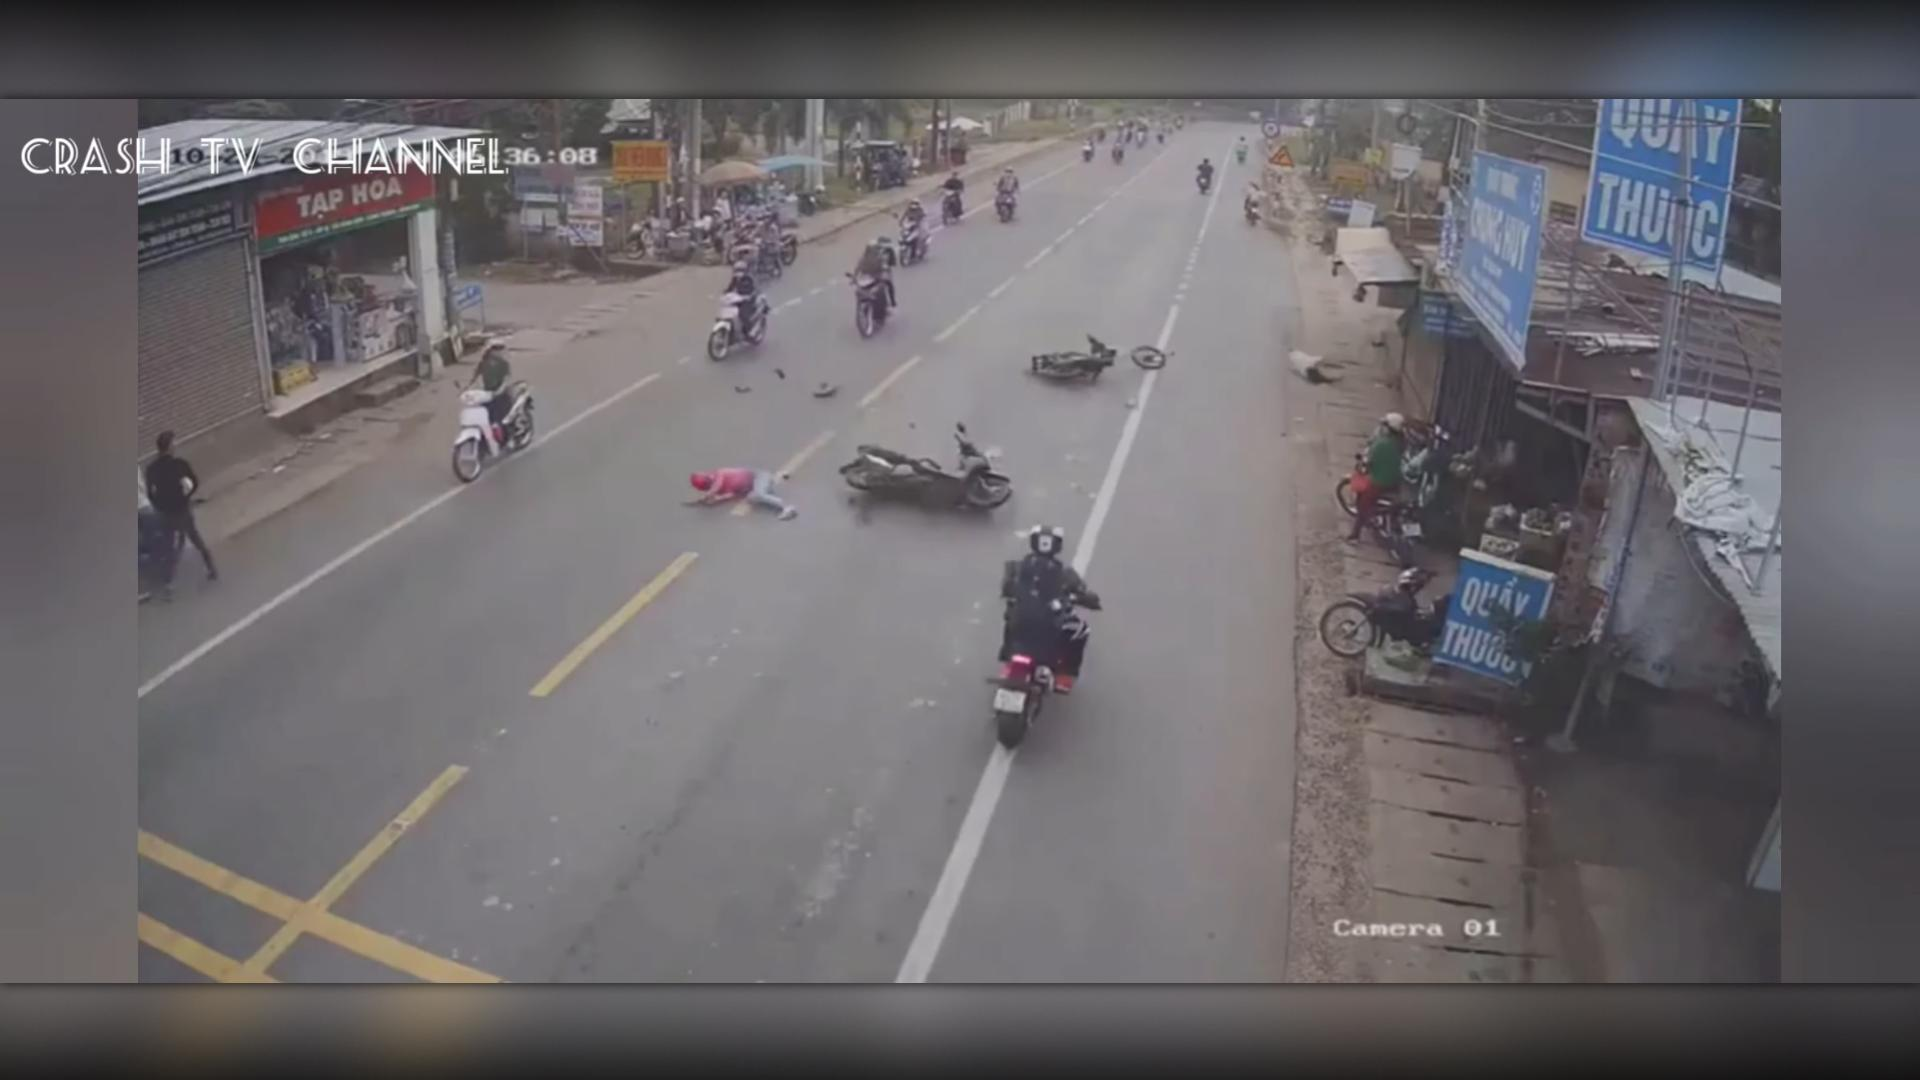accident: (844, 323, 1172, 509), (844, 407, 1015, 512), (1010, 330, 1178, 394)
